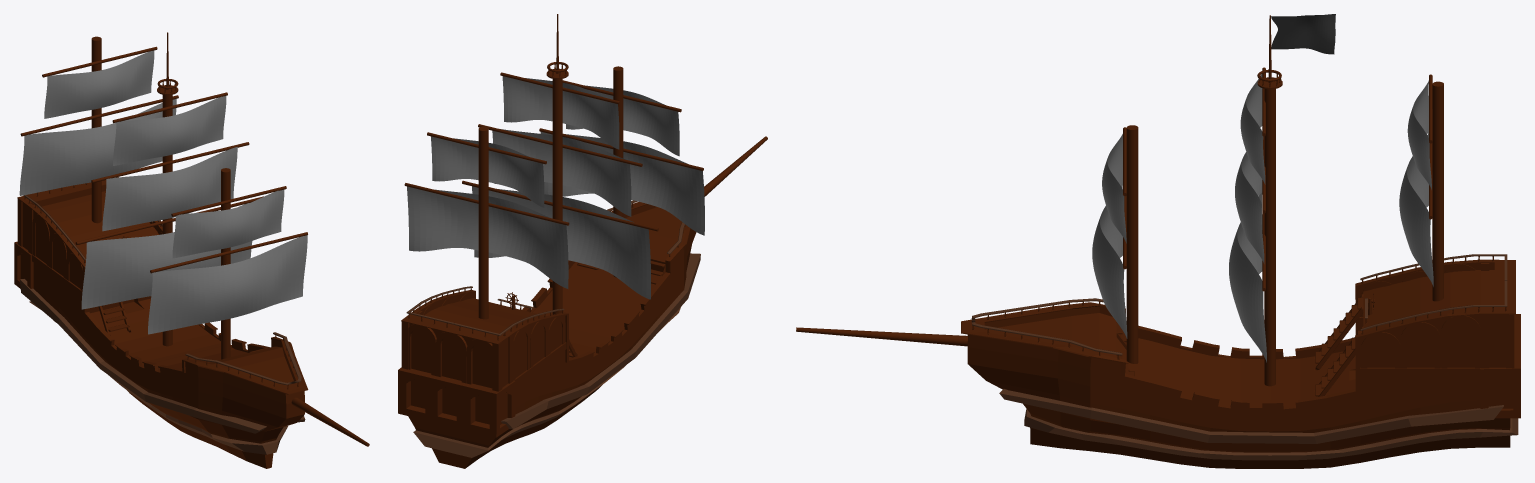
The model's file is Ship.fbx.
3 views of the same model, side by side, from view 1: azimuth 30°, elevation 25°; view 2: azimuth 150°, elevation 25°; view 3: azimuth 270°, elevation 25° (orthographic). The views are drawn at different scales.
Parts seen in each view (by area): view 1: Cube, Plane.007, Plane.001, Plane.002, Plane.005, Plane.003, Plane.006, Plane.004, Plane, Cylinder.001, Cylinder, Cylinder.002 (+11 smaller); view 2: Cube, Plane.005, Plane.001, Plane.007, Plane.002, Plane.003, Plane.004, Plane, Plane.006, Cylinder, Cylinder.001, Cube.012 (+14 smaller); view 3: Cube, Plane, Cylinder, Plane.001, Cylinder.002, Plane.007, Plane.005, Cylinder.001, Plane.008, Plane.002, Plane.003, Plane.006 (+8 smaller).
Part boxes in pixels (left/top/right/bottom): Cube: left=14, top=180, right=308, bottom=468; Plane.007: left=148, top=235, right=307, bottom=334; Plane.001: left=81, top=203, right=252, bottom=309; Plane.002: left=102, top=147, right=237, bottom=231; Plane.005: left=19, top=99, right=176, bottom=195; Plane.003: left=113, top=96, right=226, bottom=165; Plane.006: left=172, top=189, right=284, bottom=258; Plane.004: left=44, top=50, right=154, bottom=118; Plane: left=19, top=279, right=305, bottom=433; Cylinder.001: left=91, top=36, right=101, bottom=223; Cylinder: left=157, top=32, right=178, bottom=346; Cylinder.002: left=221, top=168, right=230, bottom=359; Cube: left=398, top=202, right=696, bottom=468; Plane.005: left=407, top=186, right=568, bottom=288; Plane.001: left=472, top=186, right=650, bottom=299; Plane.007: left=540, top=131, right=704, bottom=235; Plane.002: left=492, top=129, right=631, bottom=216; Plane.003: left=502, top=76, right=619, bottom=149; Plane.004: left=431, top=136, right=544, bottom=207; Plane: left=501, top=253, right=700, bottom=429; Plane.006: left=566, top=85, right=679, bottom=156; Cylinder: left=546, top=14, right=568, bottom=314; Cylinder.001: left=478, top=126, right=488, bottom=319; Cube.012: left=408, top=324, right=492, bottom=384; Cube: left=961, top=259, right=1520, bottom=468; Plane: left=999, top=389, right=1503, bottom=443; Cylinder: left=1257, top=15, right=1282, bottom=386; Plane.001: left=1229, top=192, right=1266, bottom=362; Cylinder.002: left=1126, top=125, right=1138, bottom=363; Plane.007: left=1092, top=186, right=1127, bottom=338; Plane.005: left=1399, top=133, right=1433, bottom=286; Cylinder.001: left=1432, top=81, right=1443, bottom=301; Plane.008: left=1271, top=14, right=1335, bottom=54; Plane.002: left=1235, top=152, right=1264, bottom=263; Plane.003: left=1240, top=74, right=1265, bottom=184; Plane.006: left=1102, top=134, right=1126, bottom=243.
Bounding box in the file's own units: 2068 × 3977 × 5853.
